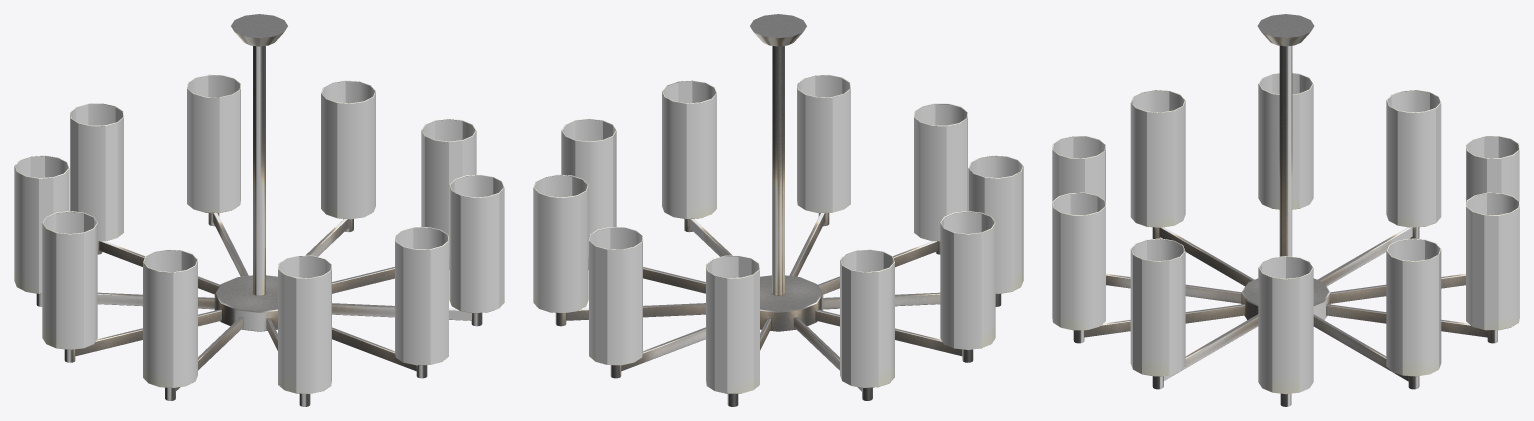
Rendered from raw_model.obj.
3 views of the same model, side by side, from view 1: azimuth 30°, elevation 25°; view 2: azimuth 150°, elevation 25°; view 3: azimuth 270°, elevation 25° (orthographic).
Visible parts, largest first — view 1: glass_001, solid_001; view 2: glass_001, solid_001; view 3: glass_001, solid_001.
Boxes of the visible parts, <box> form: glass_001: <box>14,74,504,393</box>; solid_001: <box>36,14,482,406</box>; glass_001: <box>533,74,1023,393</box>; solid_001: <box>555,14,1001,406</box>; glass_001: <box>1052,73,1519,394</box>; solid_001: <box>1073,14,1497,406</box>.
Size of the model in its own units: 1.11 by 0.7192 by 1.06.
1 material, 1 textured.
